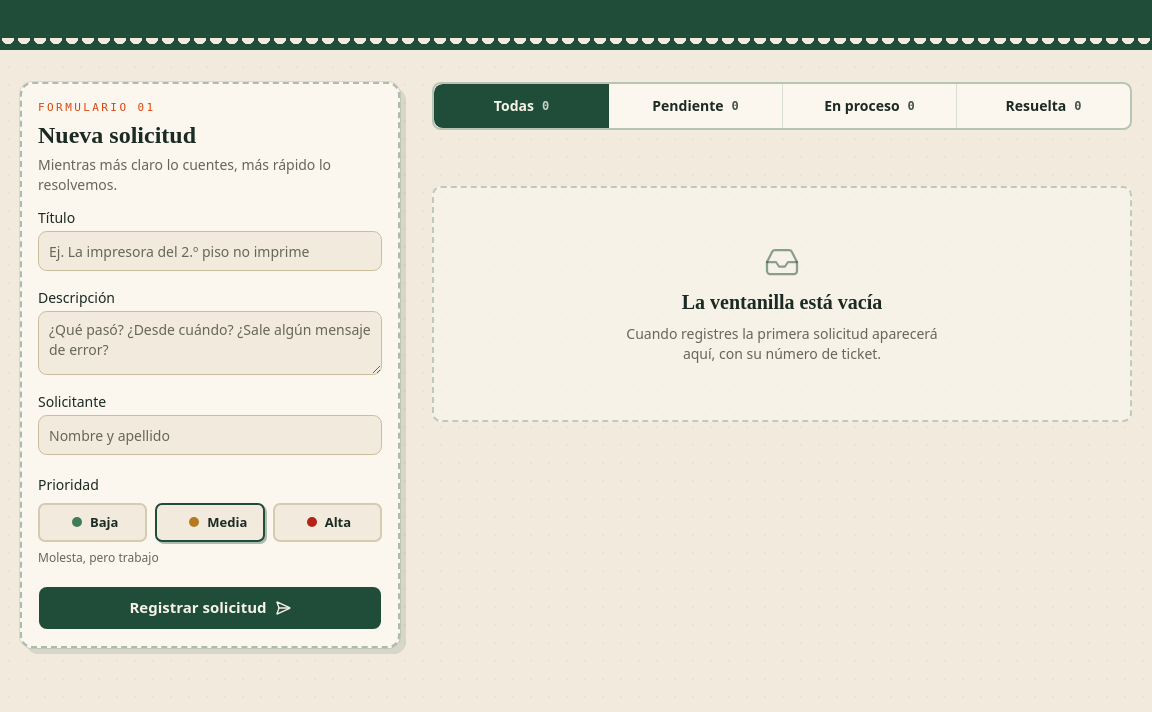
Test: Ventanilla TI › no registra si faltan datos y muestra los mensajes
(page scrolled)
Step 1. Click the button "Registrar solicitud" → x=210, y=608, box [38,586,382,630]
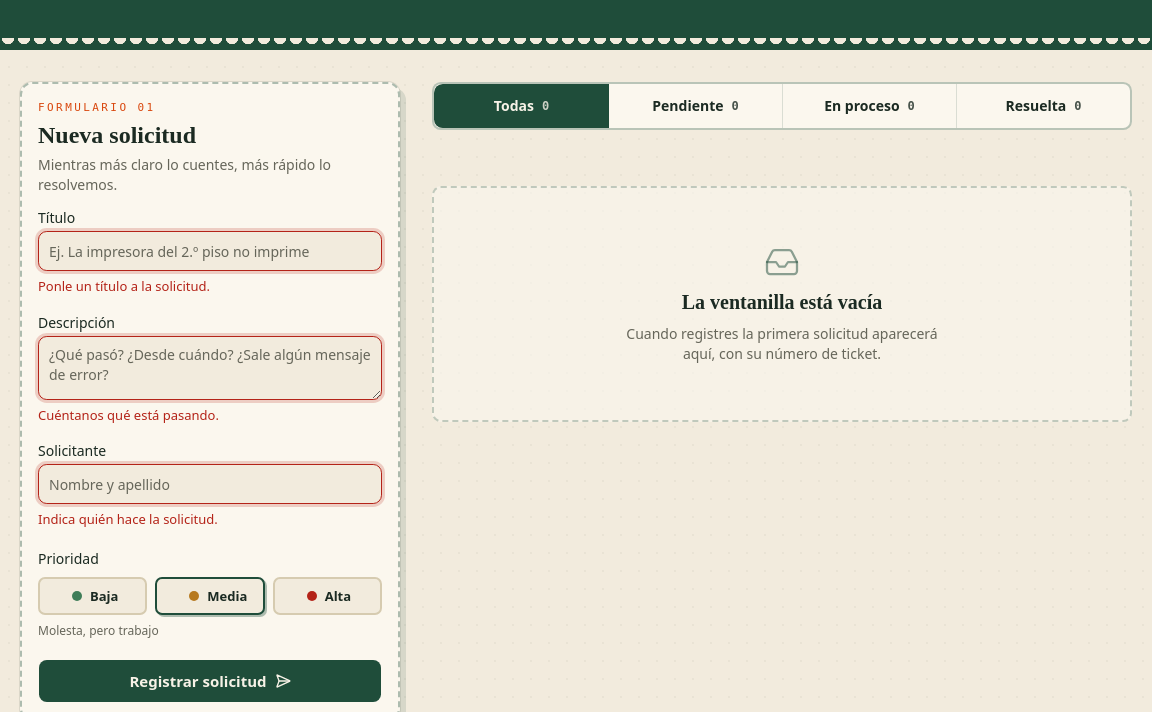
Check: the text "Ponle un título a la solicitud." is shown, box [38,277,210,295]
Check: the text "Cuéntanos qué está pasando." is shown, box [38,406,219,424]
Check: the text "Indica quién hace la solicitud." is shown, box [38,510,218,528]
